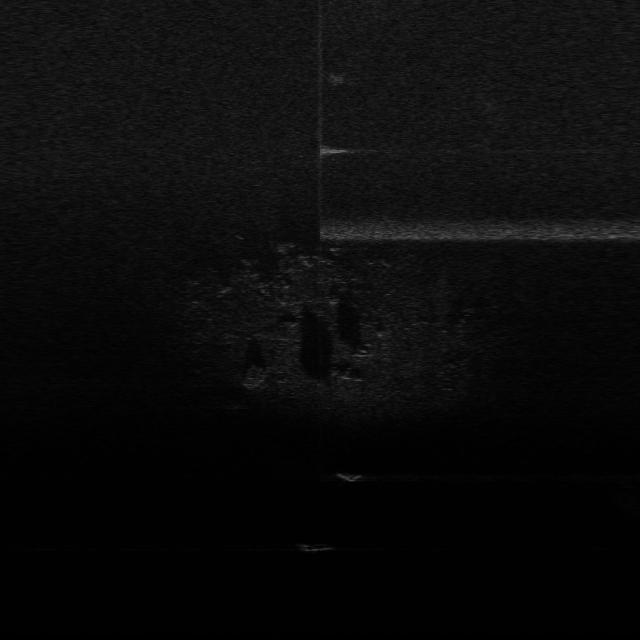cube: (294, 538, 336, 554)
square cage: (333, 469, 363, 483)
